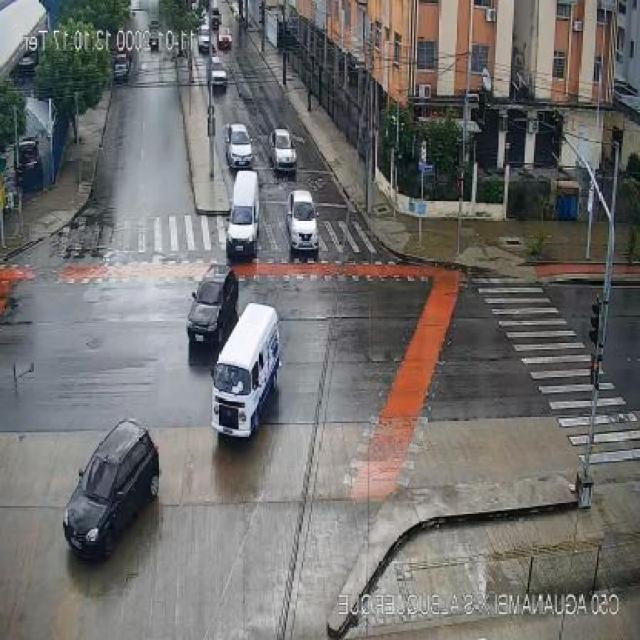Bus: (214, 307, 286, 443)
Car: (53, 420, 168, 548), (187, 270, 239, 348), (288, 190, 319, 253), (224, 123, 254, 169), (15, 140, 42, 191), (269, 128, 297, 173), (209, 58, 227, 89), (113, 54, 131, 84), (18, 50, 37, 74), (197, 22, 211, 52), (148, 21, 161, 48), (217, 29, 232, 51)
Van: (222, 170, 266, 252)
